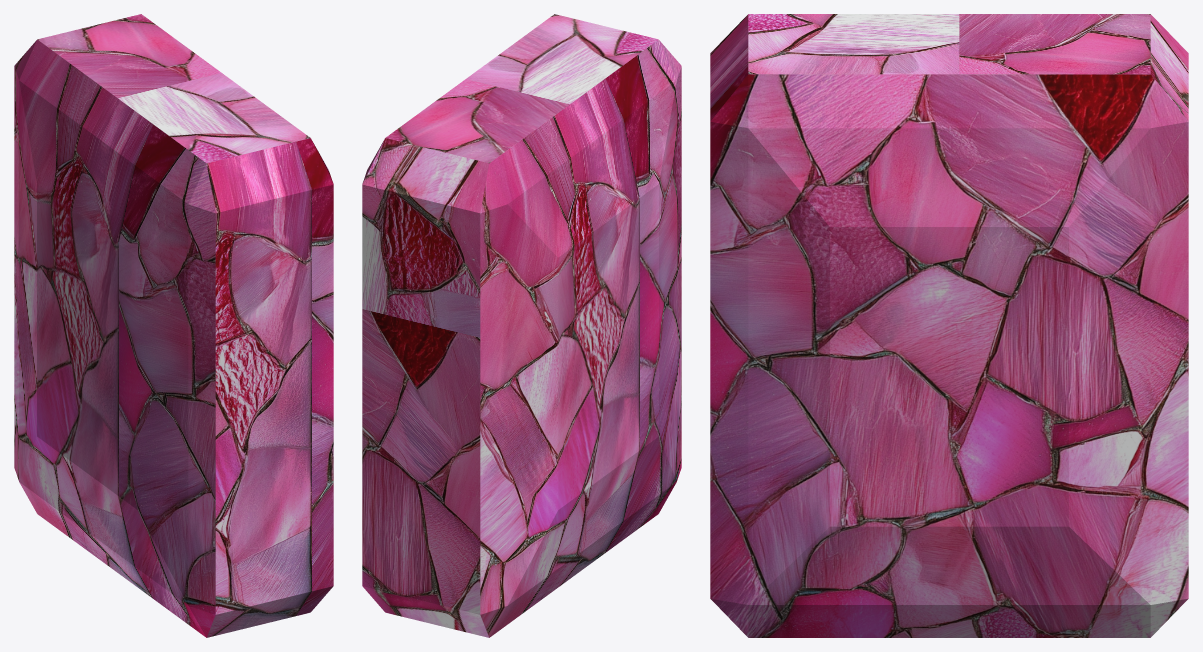
Rendered from gemstone6Pink.glb.
The picture shows the model from 3 angles, left to right: view 1: azimuth 30°, elevation 25°; view 2: azimuth 150°, elevation 25°; view 3: azimuth 270°, elevation 25°; orthographic projection. The views are drawn at different scales.
Visible parts, largest first — view 1: gemstone5; view 2: gemstone5; view 3: gemstone5.
Part boxes in pixels (x1,y1,x2,y2): gemstone5: [14, 14, 333, 637]; gemstone5: [362, 14, 681, 637]; gemstone5: [710, 14, 1188, 637].
Size of the model in its own units: 0.5 by 1.3 by 1.
1 material, 1 textured.
